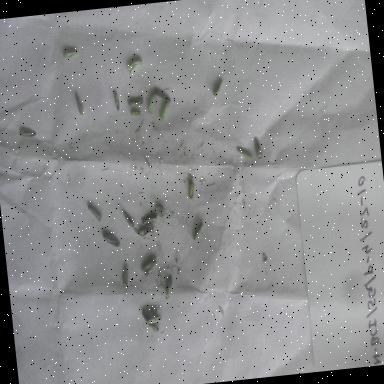pbw: (82, 199, 106, 227), (125, 51, 146, 81), (72, 88, 92, 119), (137, 255, 160, 281), (100, 226, 123, 252), (117, 206, 138, 234), (138, 310, 160, 336), (233, 140, 254, 167), (109, 82, 125, 116), (143, 86, 160, 116), (119, 260, 136, 290), (150, 85, 174, 106), (60, 45, 84, 65), (136, 221, 160, 241), (190, 220, 209, 245), (158, 101, 176, 127), (16, 123, 40, 142), (250, 134, 266, 162), (136, 210, 160, 228), (210, 76, 228, 100), (160, 272, 176, 298), (184, 176, 200, 202), (126, 95, 148, 112), (146, 312, 163, 328), (128, 106, 143, 120)
